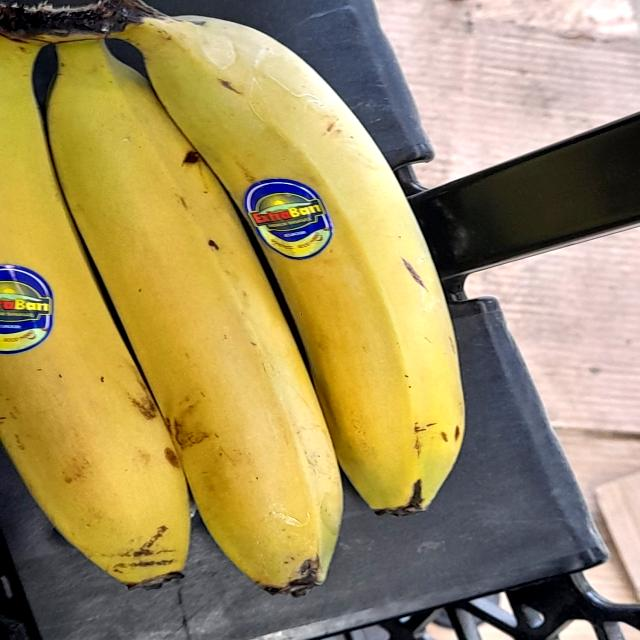banana: (0, 0, 472, 588)
